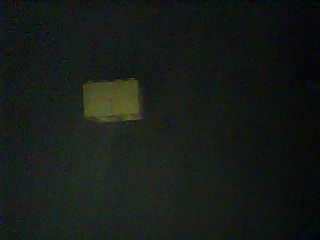lego: (81, 77, 143, 124)
